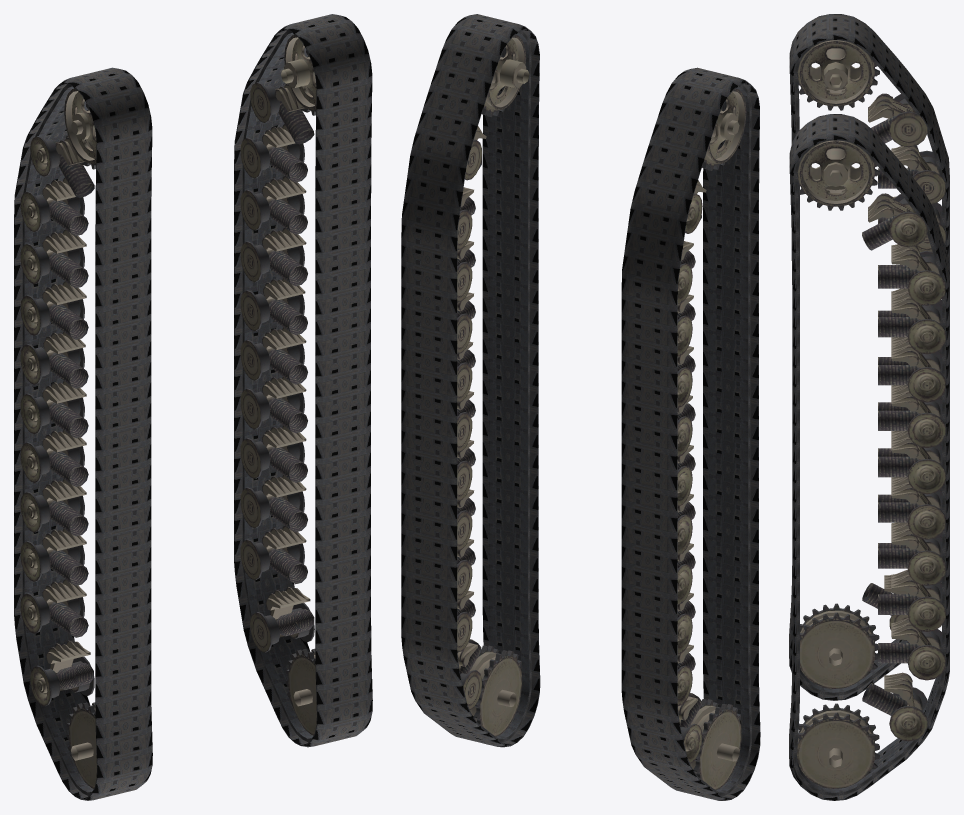
Rendered from Chassis.glb.
3 views of the same model, side by side, from view 1: azimuth 30°, elevation 25°; view 2: azimuth 150°, elevation 25°; view 3: azimuth 270°, elevation 25° (orthographic). The views are drawn at different scales.
Visible parts, largest first — view 1: set_0_group_0, set_1_group_0, set_5_group_0, set_3_group_0, set_4_group_0, set_2_group_0; view 2: set_1_group_0, set_0_group_0, set_5_group_0, set_3_group_0; view 3: set_5_group_0, set_3_group_0, set_1_group_0, set_0_group_0, set_4_group_0.
Boxes of the visible parts, x1,y1,x2,y2 form: set_0_group_0: [14, 67, 152, 800]; set_1_group_0: [234, 14, 372, 747]; set_5_group_0: [240, 34, 316, 735]; set_3_group_0: [20, 88, 96, 788]; set_4_group_0: [266, 495, 307, 532]; set_2_group_0: [47, 548, 88, 585]; set_1_group_0: [401, 14, 540, 747]; set_0_group_0: [621, 67, 760, 800]; set_5_group_0: [457, 35, 529, 736]; set_3_group_0: [677, 88, 746, 789]; set_5_group_0: [797, 140, 945, 788]; set_3_group_0: [797, 40, 945, 688]; set_1_group_0: [789, 114, 949, 800]; set_0_group_0: [789, 14, 949, 700]; set_4_group_0: [878, 584, 931, 614].
Bounding box in the file's own units: 2.75 × 6.83 × 1.5.
6 materials, 6 textured.
